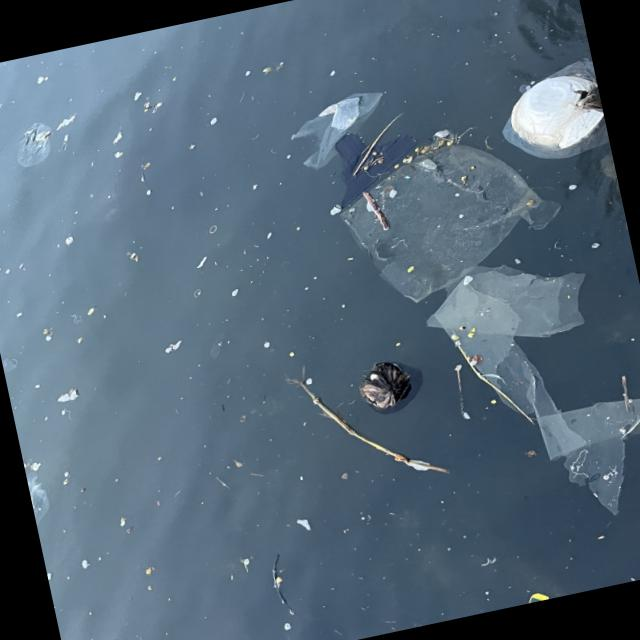foam: (505, 69, 610, 158)
plastic bag: (336, 146, 549, 306), (284, 87, 387, 172), (15, 124, 54, 167)
